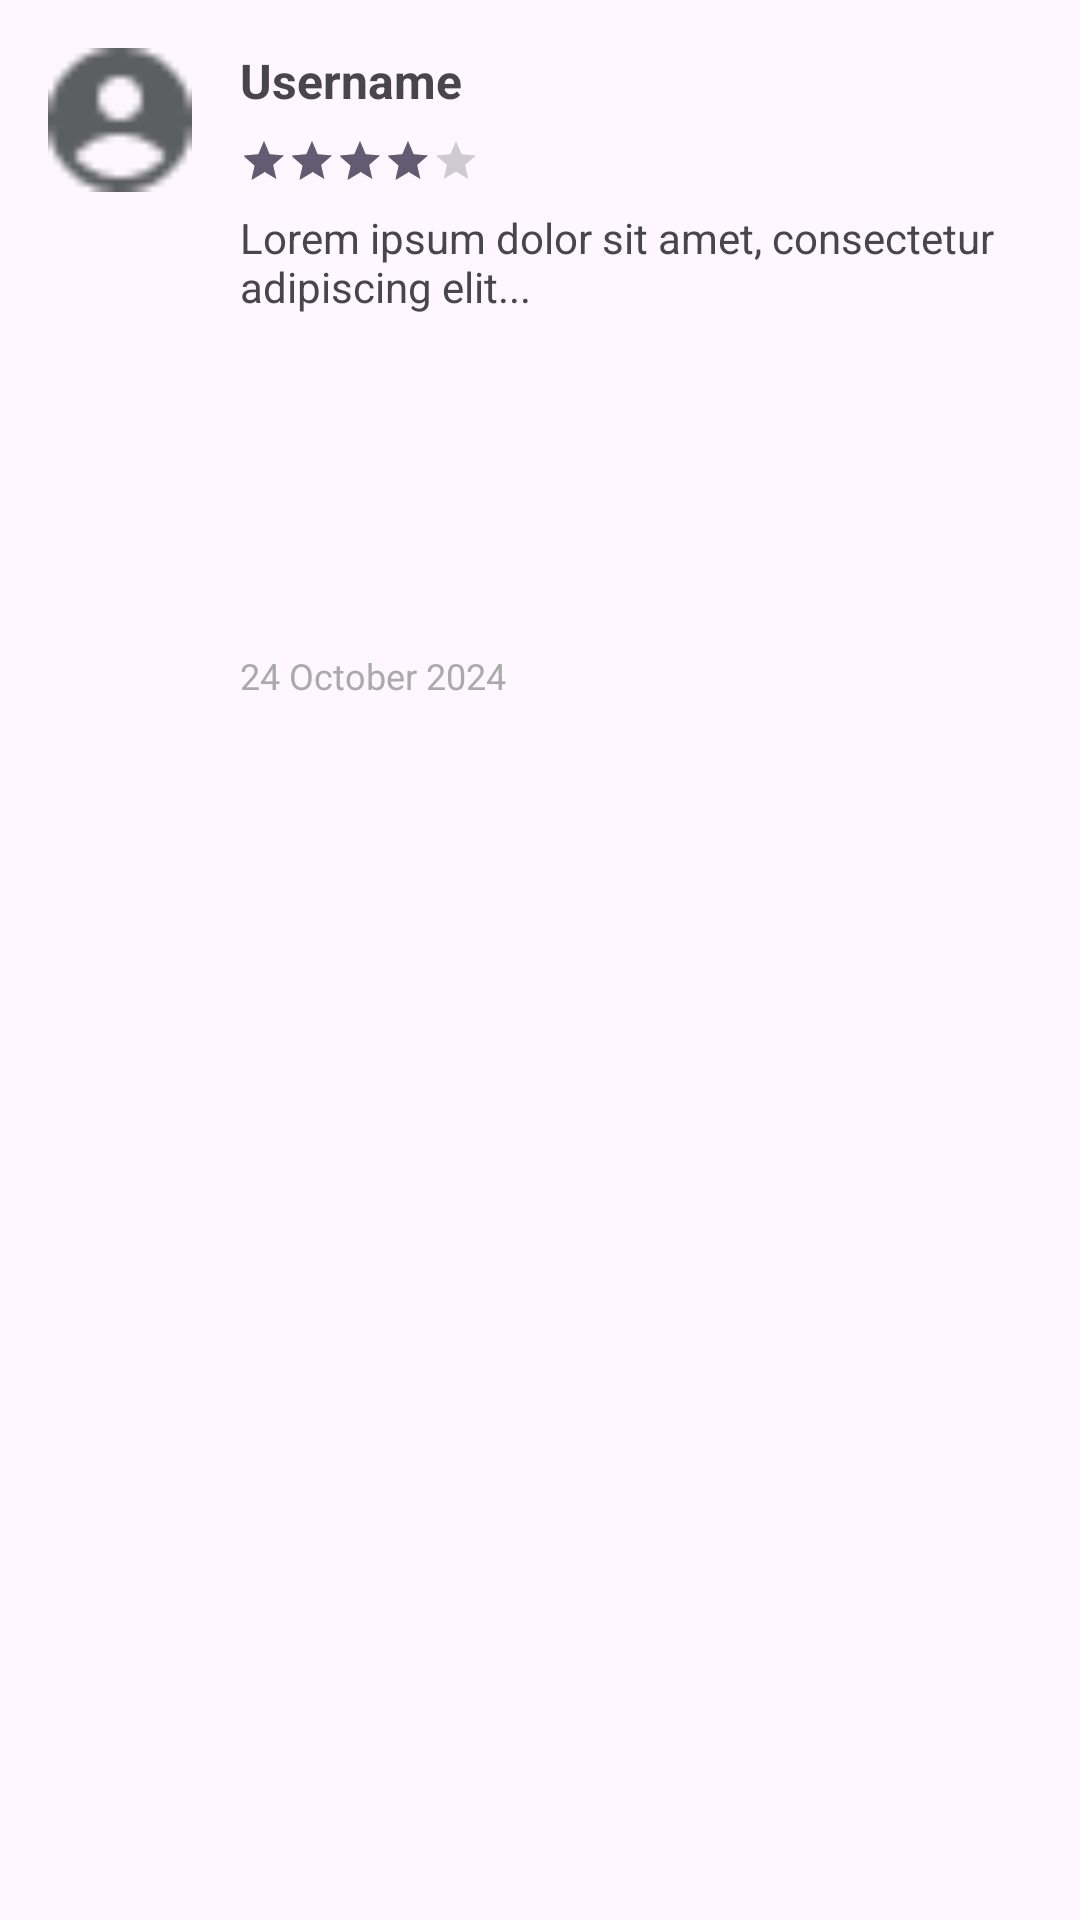

Named icons in this screenshot (1080 × 1920) and their bounding boxes, [left=x1, top=y1, right=x2, bottom=y2]:
Profile Image: [left=48, top=48, right=192, bottom=192]
